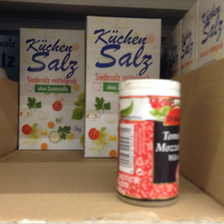spices: (82, 14, 162, 158), (115, 78, 182, 207), (18, 26, 85, 151)
